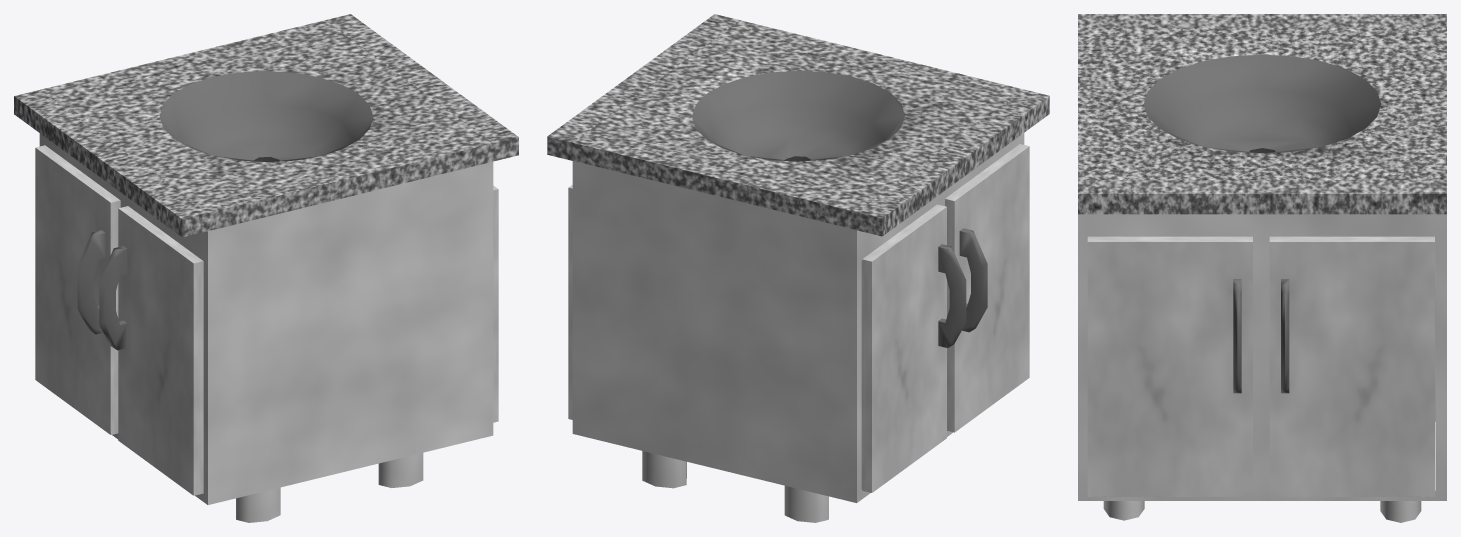
File: muslukDolpa.fbx
3 renders of one model, left to right at view 1: azimuth 30°, elevation 25°; view 2: azimuth 150°, elevation 25°; view 3: azimuth 270°, elevation 25°, orthographic. The views are drawn at different scales.
Parts seen in each view (by area): view 1: Cube, Cube.002, Cube.004, Cube.003; view 2: Cube, Cube.004, Cube.002, Cube.001; view 3: Cube, Cube.001, Cube.003.
Boxes of the visible parts, x1,y1,x2,y2 form: Cube: (14,14,518,522); Cube.002: (99,206,203,495); Cube.004: (35,145,120,434); Cube.003: (493,185,498,422); Cube: (547,14,1049,522); Cube.004: (861,204,966,492); Cube.002: (945,144,1029,432); Cube.001: (568,185,572,419); Cube: (1078,14,1446,522); Cube.001: (1269,236,1434,496); Cube.003: (1087,236,1252,496).
Bounding box in the file's own units: 250 × 225 × 204.
Materials: 2 (2 with a texture image).
